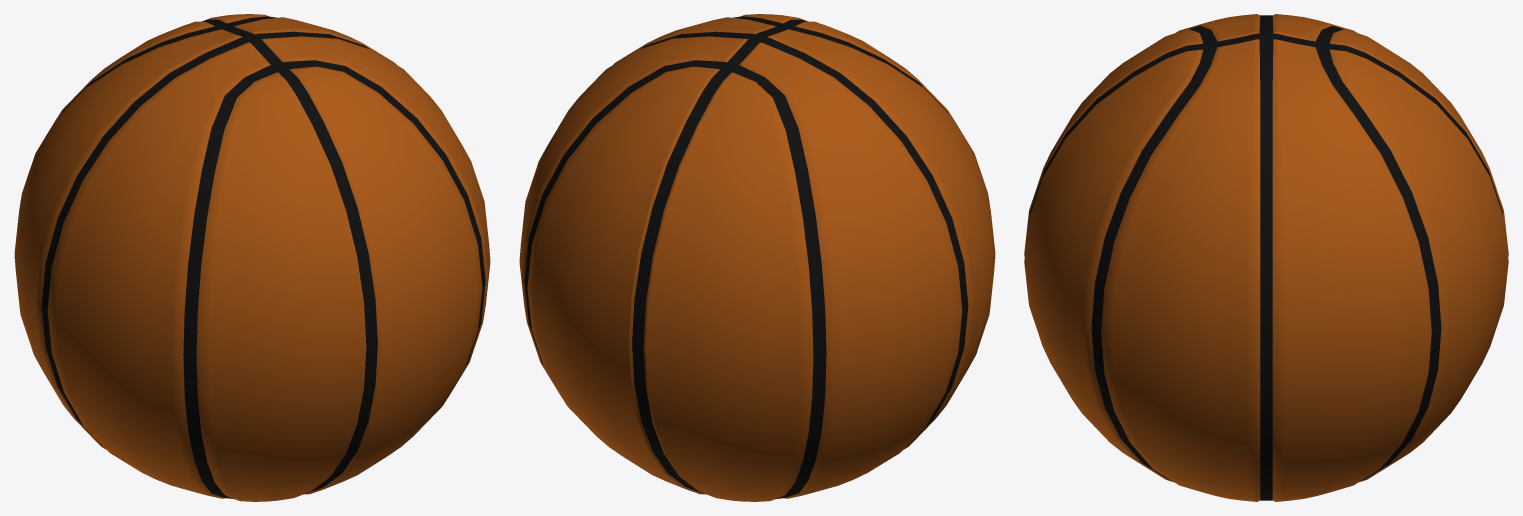
The model's file is basket.FBX.
3 views of the same model, side by side, from view 1: azimuth 30°, elevation 25°; view 2: azimuth 150°, elevation 25°; view 3: azimuth 270°, elevation 25° (orthographic).
Visible parts, largest first — view 1: Sphere001; view 2: Sphere001; view 3: Sphere001.
Boxes of the visible parts, box(x1,y1,x2,y2) form: Sphere001: box(14, 14, 490, 501); Sphere001: box(519, 14, 995, 501); Sphere001: box(1024, 14, 1508, 501).
Size of the model in its own units: 97.28 by 98.25 by 97.01.
